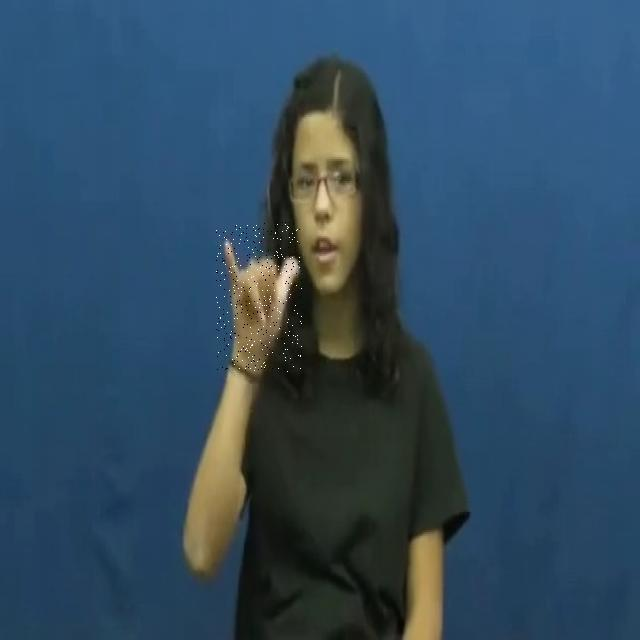yoghurt: (216, 222, 302, 372)
